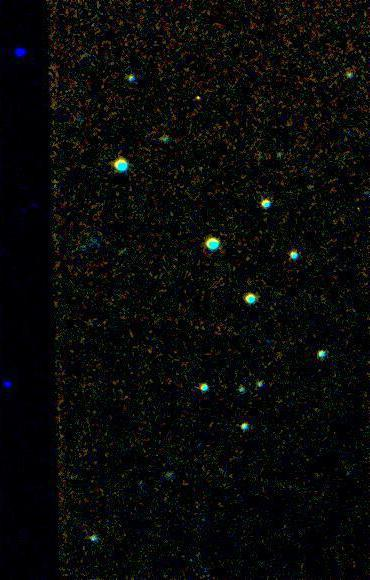star: (184, 83, 214, 113)
